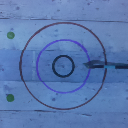Axe Tip: (83, 63, 95, 65)
